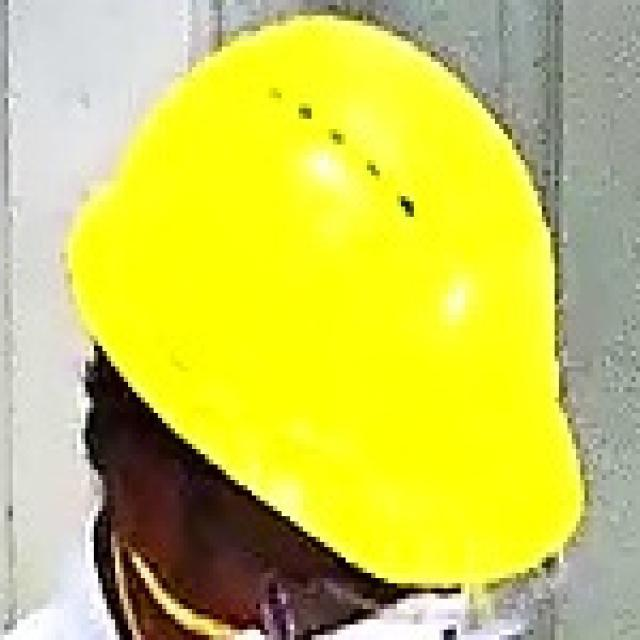yellow helmet: (70, 15, 585, 586)
